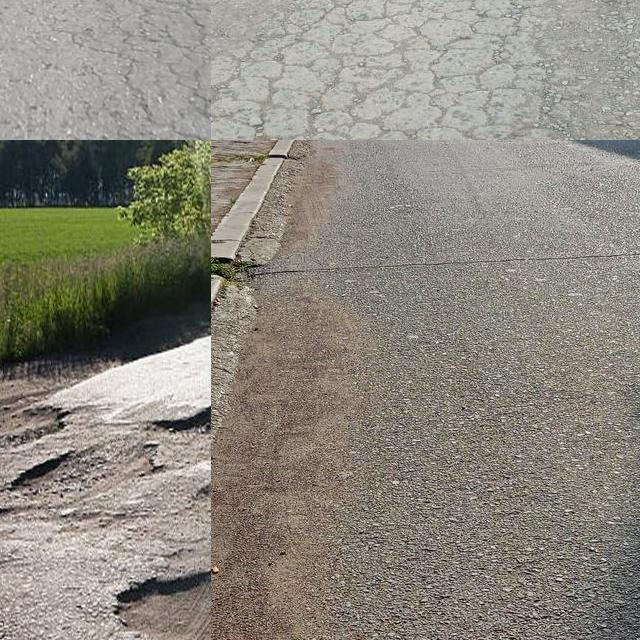Lubang: (17, 445, 162, 502), (109, 579, 211, 640), (140, 401, 211, 445)
Melintang: (258, 241, 640, 285)
Retak Buaya: (211, 0, 551, 140), (68, 0, 211, 140)
